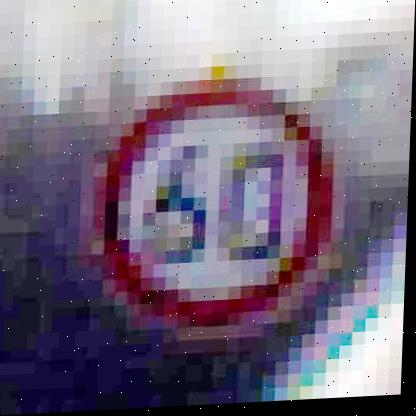Speed Limit -60-: (80, 64, 342, 344)
